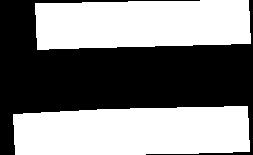parkingspot: (13, 106, 249, 155), (35, 0, 250, 49)
